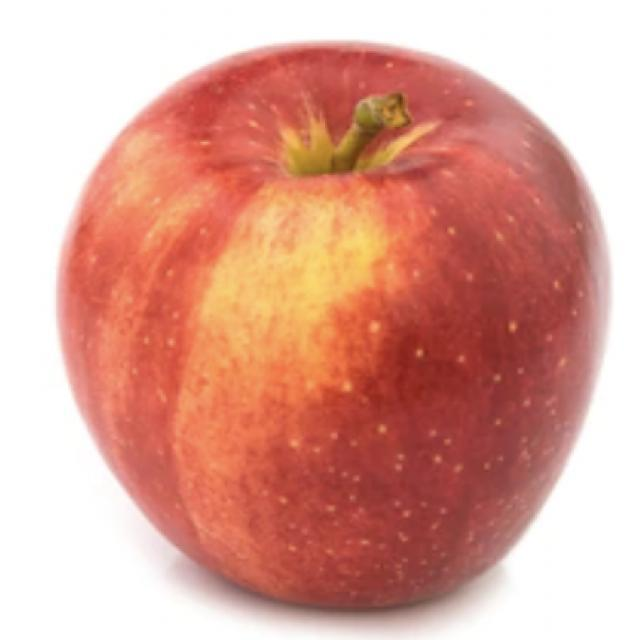Fresh Apple: (82, 39, 595, 594)
